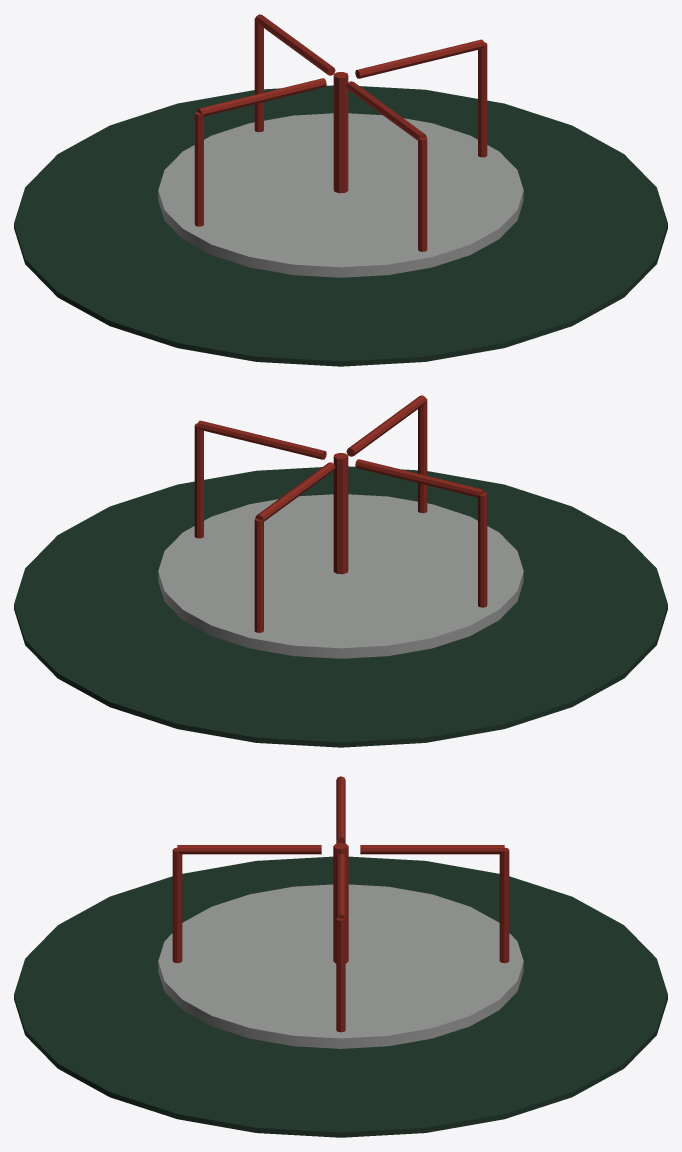
Rendered from SM_Prop_play_roundabout_0.glb.
The picture shows the model from 3 angles, top to bottom: view 1: azimuth 30°, elevation 25°; view 2: azimuth 150°, elevation 25°; view 3: azimuth 270°, elevation 25°; orthographic projection.
Visible parts, largest first — view 1: SM_Prop_play_roundabout_0; view 2: SM_Prop_play_roundabout_0; view 3: SM_Prop_play_roundabout_0.
Part boxes in pixels (<box>): SM_Prop_play_roundabout_0: <box>14,14,667,366</box>; SM_Prop_play_roundabout_0: <box>14,395,667,747</box>; SM_Prop_play_roundabout_0: <box>14,776,667,1137</box>.
Size of the model in its own units: 3.4 by 0.885 by 3.4.
